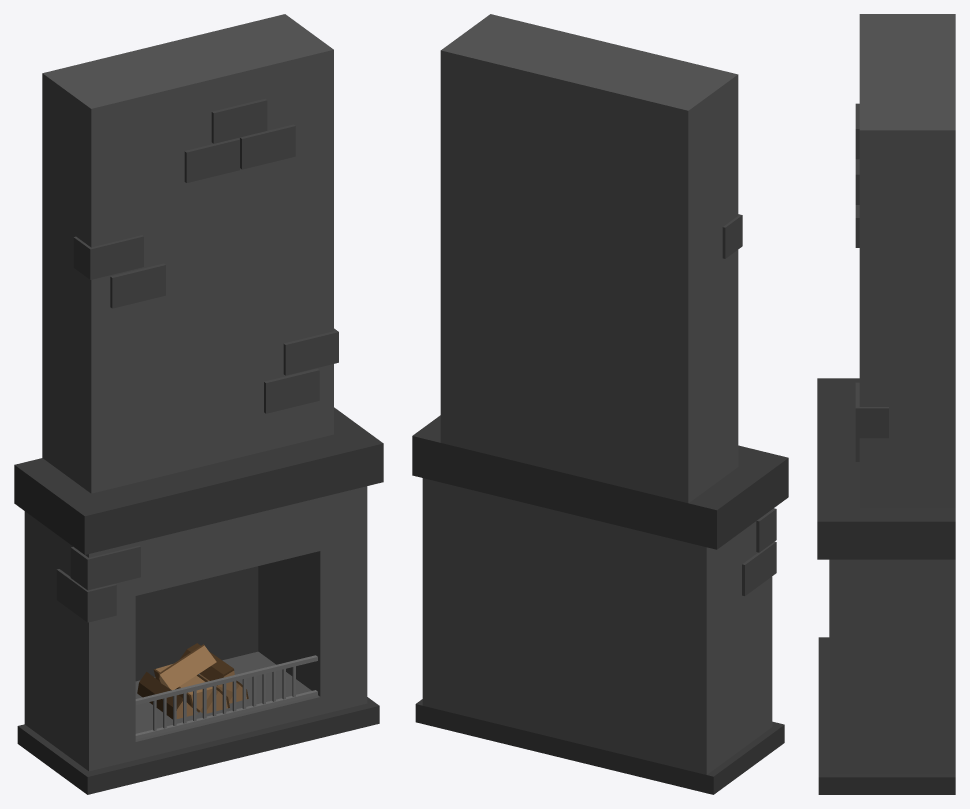
Rendered from Fireplace_04.fbx.
3 renders of one model, left to right at view 1: azimuth 30°, elevation 25°; view 2: azimuth 150°, elevation 25°; view 3: azimuth 270°, elevation 25°, orthographic. The views are drawn at different scales.
Visible parts, largest first — view 1: Fireplace_04; view 2: Fireplace_04; view 3: Fireplace_04.
Part boxes in pixels (x1,y1,x2,y2): Fireplace_04: [14, 14, 383, 794]; Fireplace_04: [412, 14, 788, 794]; Fireplace_04: [817, 14, 955, 794].
Size of the model in its own units: 134 by 285 by 54.69.
